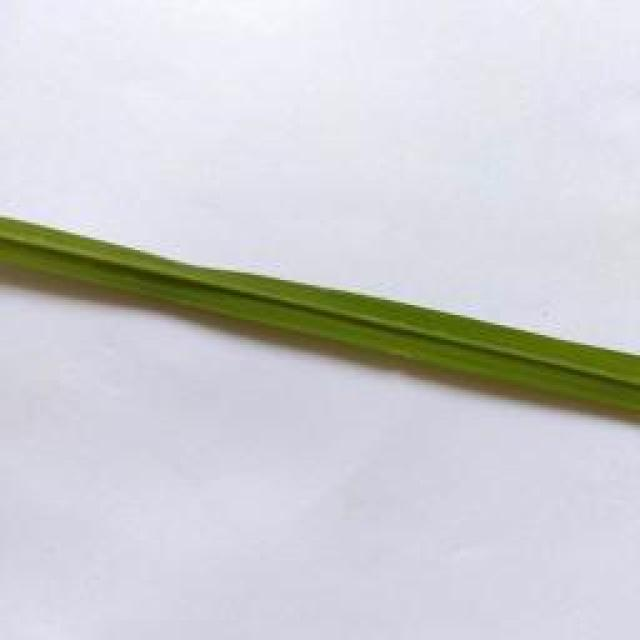Healthy-Plant: (0, 211, 640, 415)
